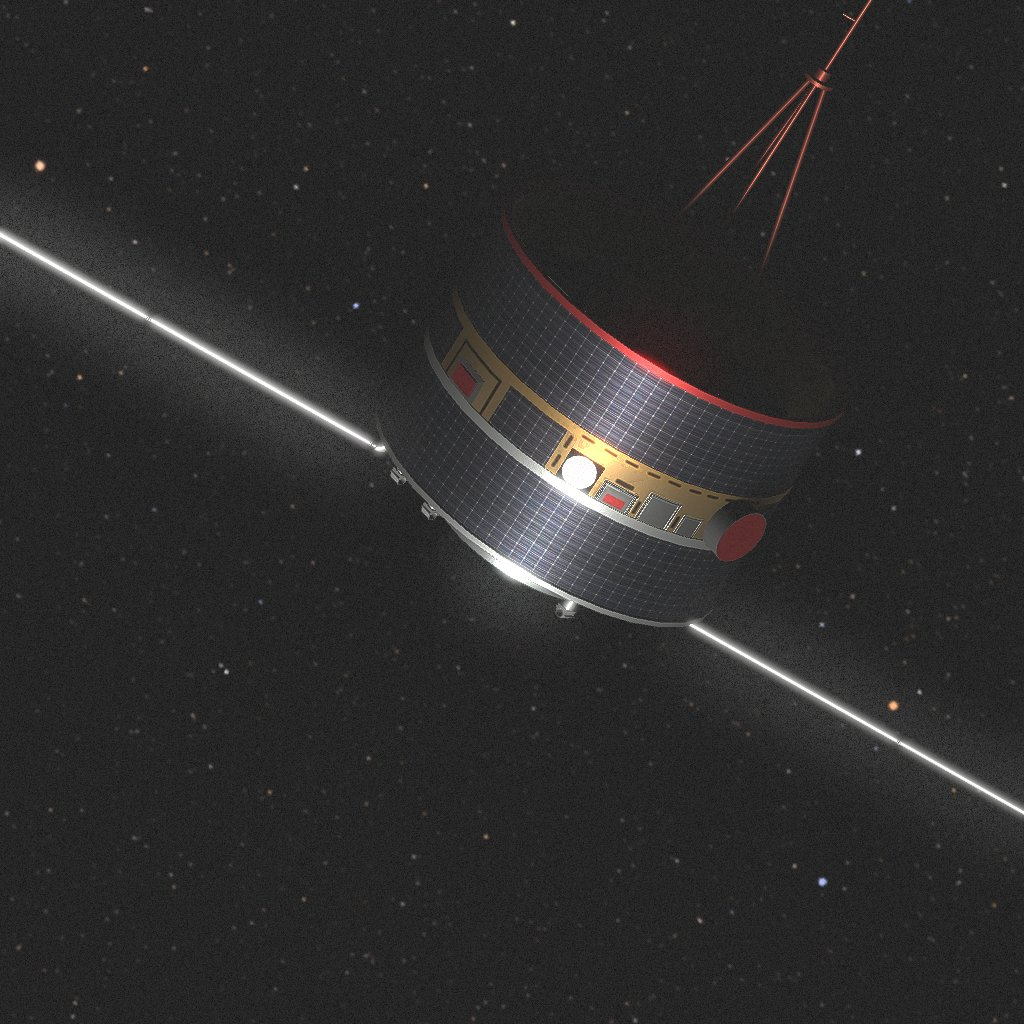double_star: (0, 0, 1024, 815)
